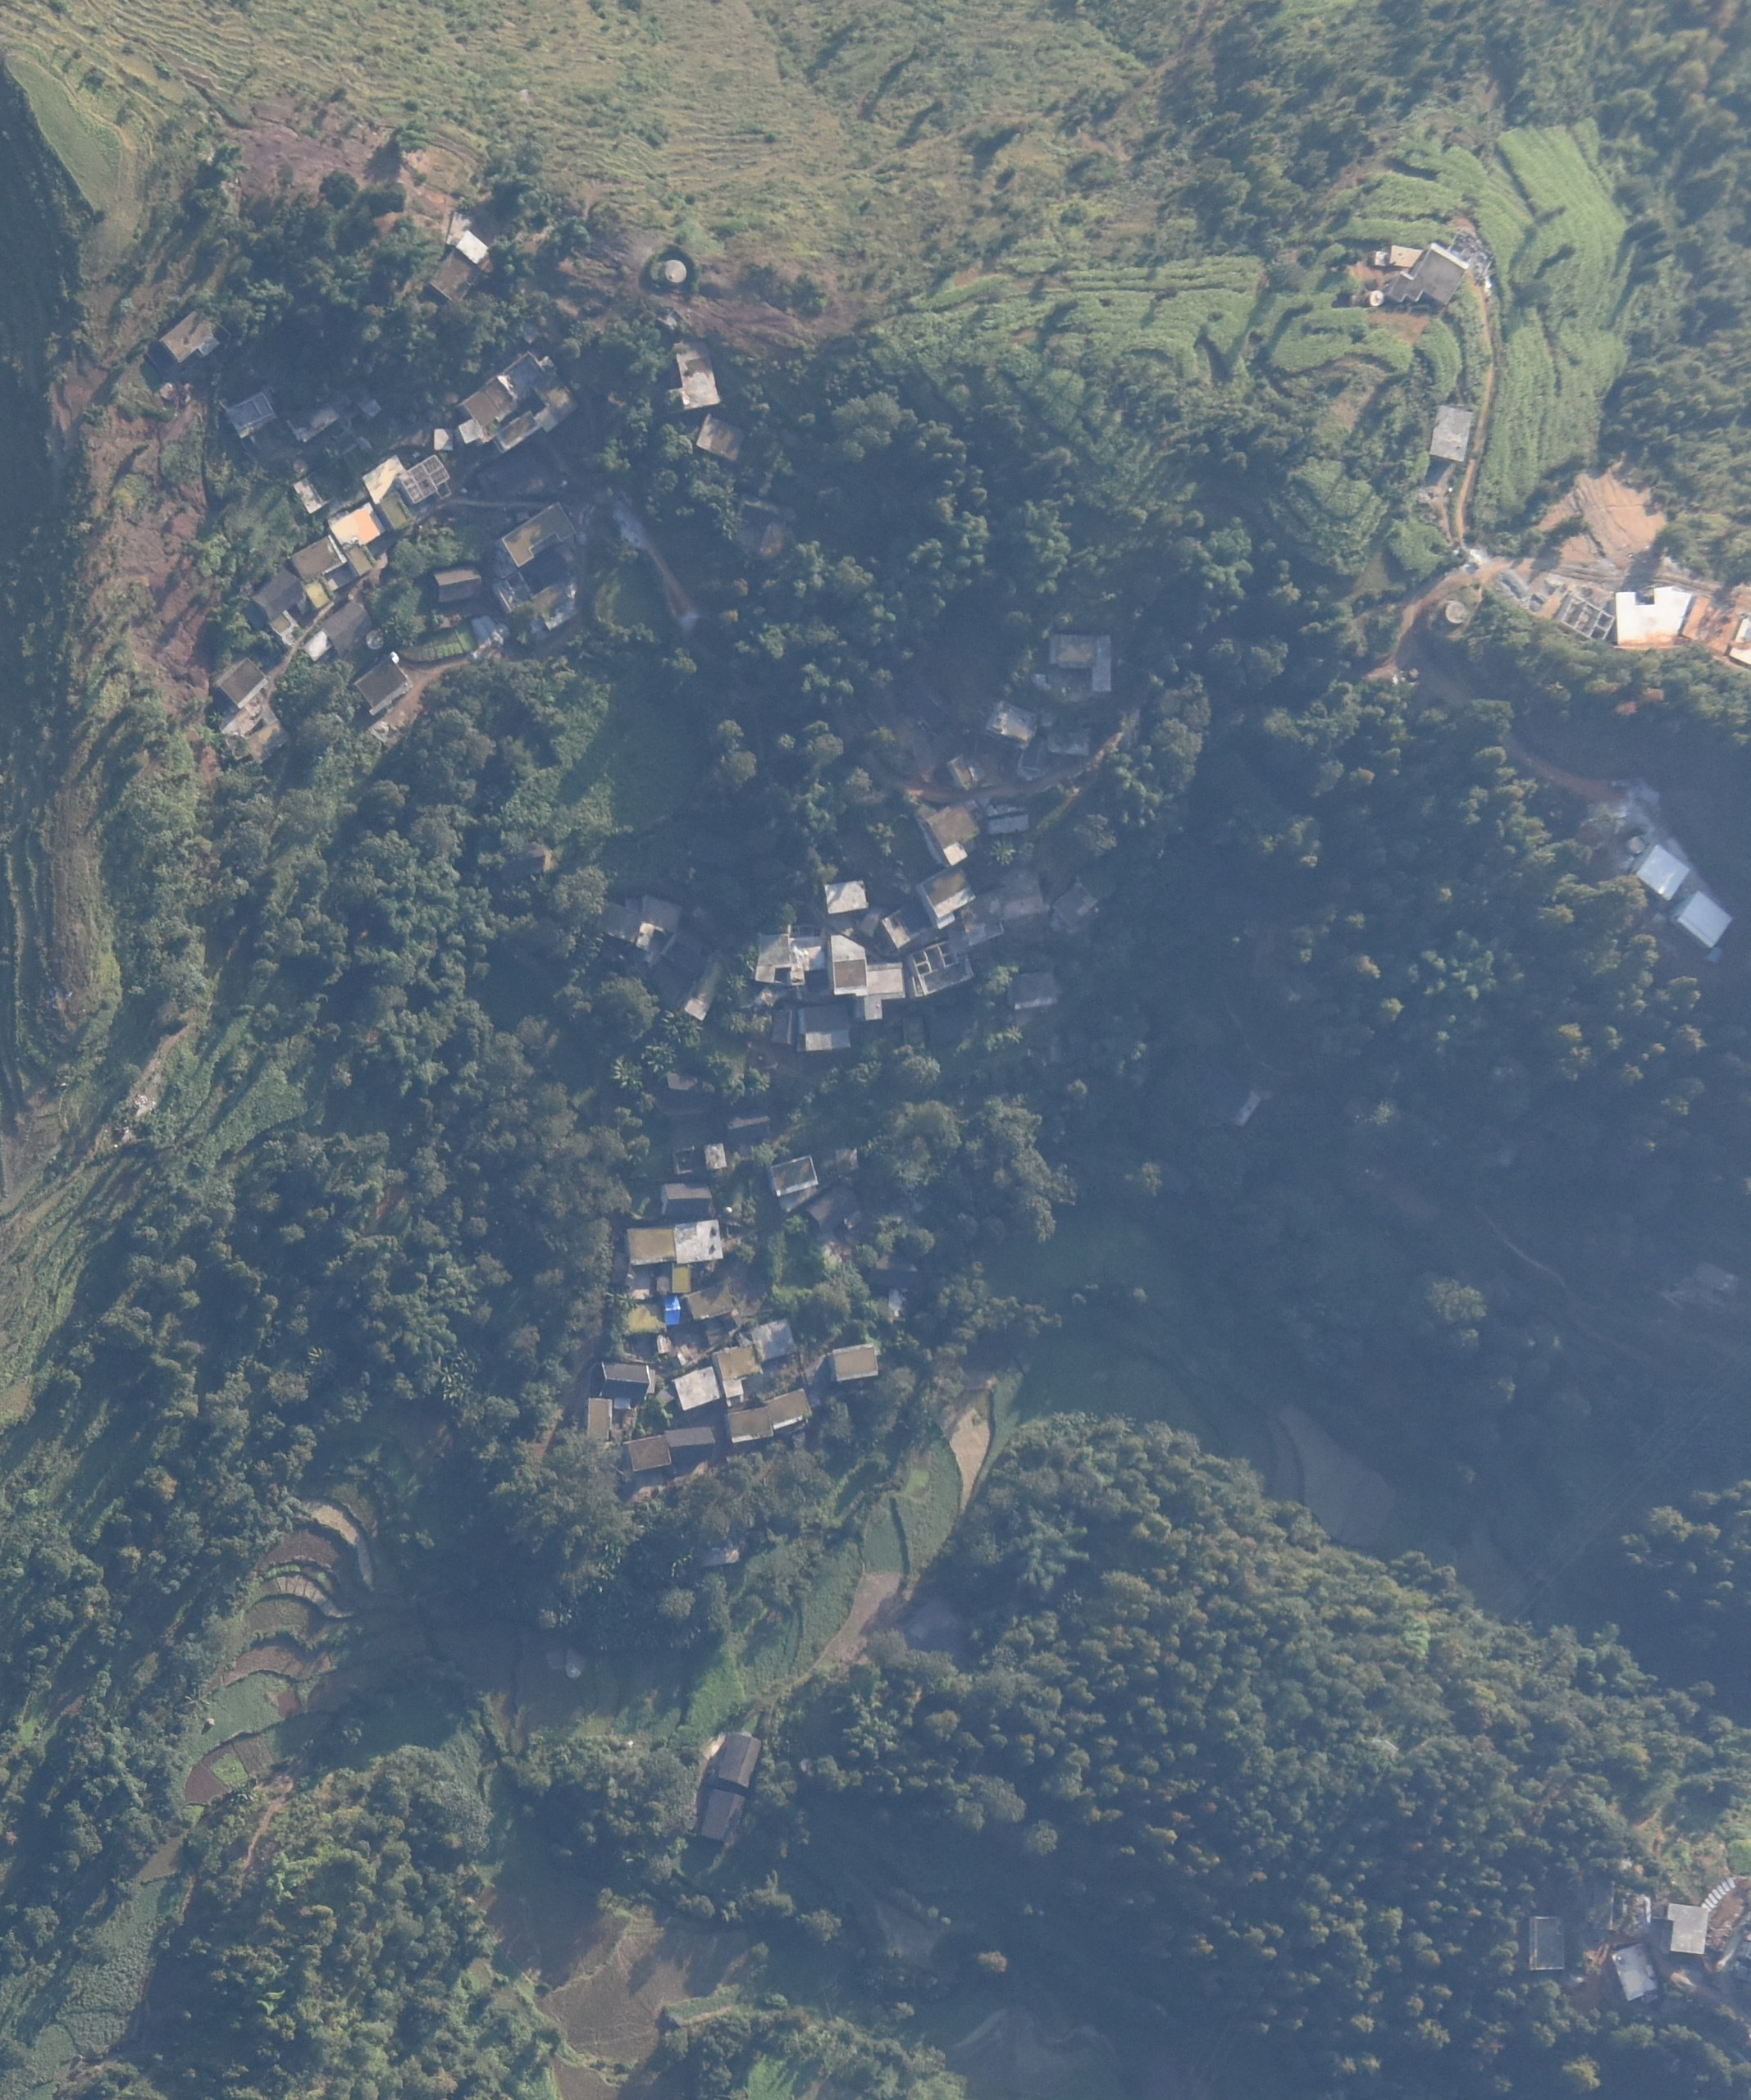building: (459, 351, 574, 449), (829, 934, 909, 1025), (961, 868, 1048, 949), (1610, 584, 1695, 653), (1379, 246, 1474, 307), (594, 893, 684, 957), (495, 503, 581, 569), (751, 923, 828, 993), (363, 455, 460, 508), (1687, 593, 1750, 670), (495, 576, 576, 634), (291, 391, 384, 440), (253, 565, 308, 644), (733, 488, 796, 558), (915, 799, 976, 867), (160, 313, 232, 369), (433, 230, 488, 303), (331, 505, 389, 574), (624, 1222, 723, 1262), (1605, 1935, 1661, 2002), (1051, 635, 1112, 694), (351, 659, 416, 715), (308, 604, 371, 662), (916, 868, 980, 923), (671, 338, 717, 413), (1638, 840, 1692, 901), (774, 1008, 851, 1050), (910, 941, 970, 993), (1678, 891, 1730, 948), (221, 387, 275, 440), (1432, 402, 1477, 463), (216, 656, 267, 708), (1008, 968, 1063, 1016), (804, 1184, 861, 1229), (232, 718, 287, 765), (289, 538, 348, 581), (695, 414, 747, 462), (1667, 1901, 1710, 1960), (712, 1343, 759, 1393), (701, 1792, 746, 1845), (598, 1360, 654, 1401), (769, 1159, 817, 1207), (987, 699, 1033, 748), (717, 1734, 759, 1786), (761, 1389, 811, 1433), (1052, 882, 1100, 927), (1531, 1917, 1566, 1975), (827, 1346, 880, 1383), (747, 1318, 798, 1356), (658, 1182, 713, 1218), (676, 1368, 720, 1410), (687, 1282, 734, 1322), (623, 1435, 673, 1472), (674, 976, 714, 1022), (431, 568, 484, 602), (667, 1423, 718, 1457), (882, 909, 929, 946), (723, 1111, 774, 1143), (729, 1408, 776, 1443), (823, 880, 867, 915), (986, 805, 1033, 837), (288, 470, 323, 512), (585, 1393, 615, 1442), (1048, 729, 1095, 758), (653, 1262, 694, 1296), (951, 750, 984, 790), (663, 1069, 705, 1095), (433, 423, 456, 452), (705, 1142, 726, 1168)
prefabricated-house: (659, 1297, 681, 1327)
well: (1443, 599, 1473, 628), (663, 255, 691, 282), (367, 630, 388, 652), (1370, 288, 1387, 307)
